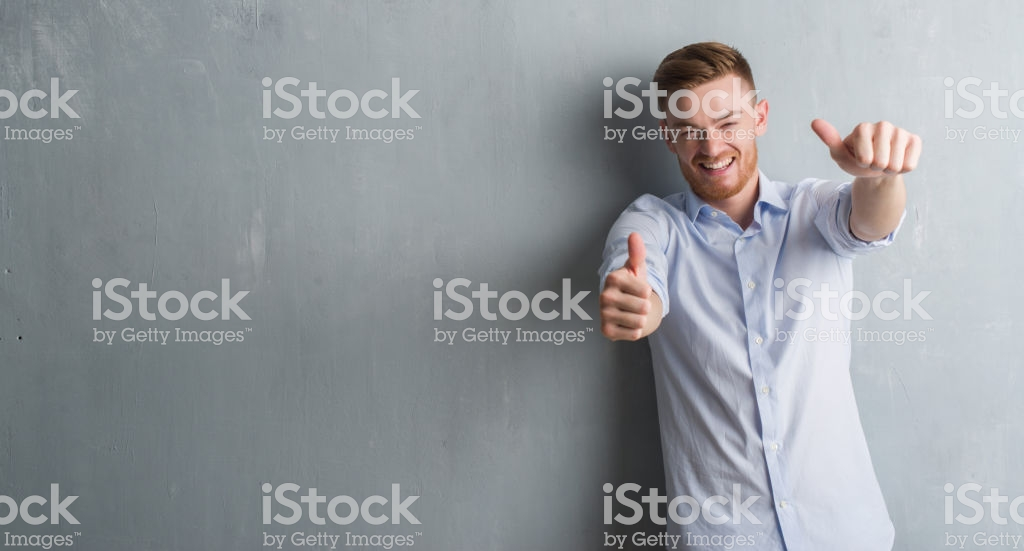thumbsup: (597, 230, 653, 344)
